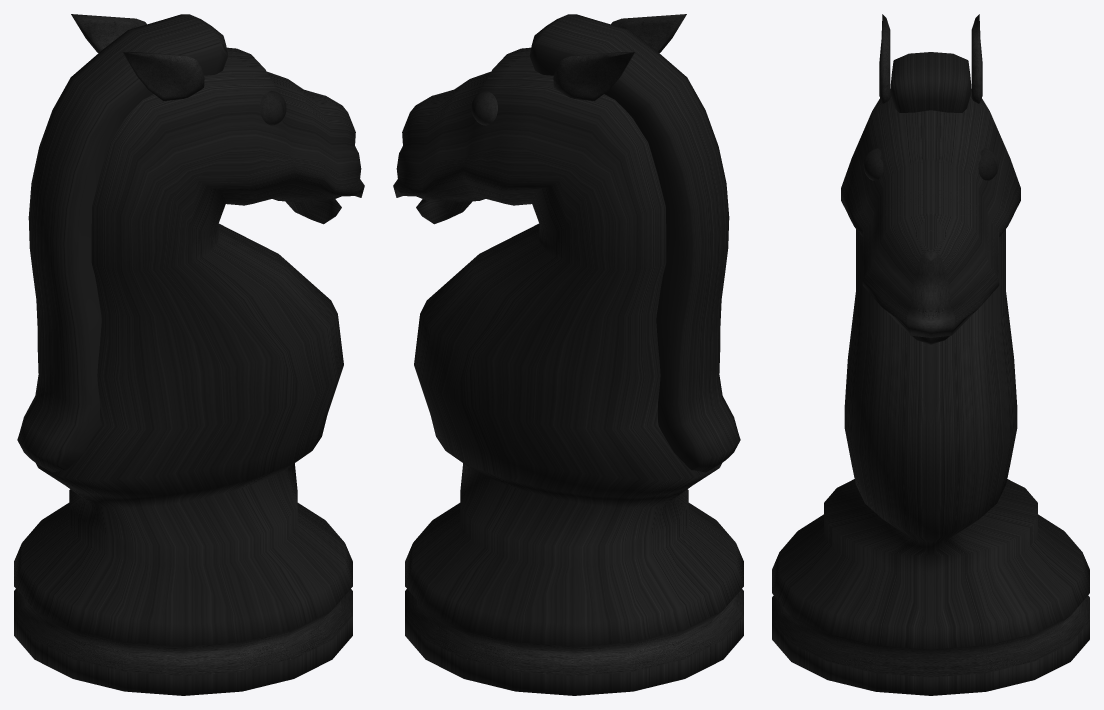
Rendered from b-knight-stone.gltf.
3 renders of one model, left to right at view 1: azimuth 30°, elevation 25°; view 2: azimuth 150°, elevation 25°; view 3: azimuth 270°, elevation 25°, orthographic. The views are drawn at different scales.
Parts seen in each view (by area): view 1: B_Knight; view 2: B_Knight; view 3: B_Knight.
Boxes of the visible parts, x1,y1,x2,y2 form: B_Knight: [14, 14, 364, 695]; B_Knight: [393, 14, 743, 695]; B_Knight: [772, 14, 1089, 695].
Size of the model in its own units: 54.86 by 98.92 by 48.6.
1 material, 1 textured.
